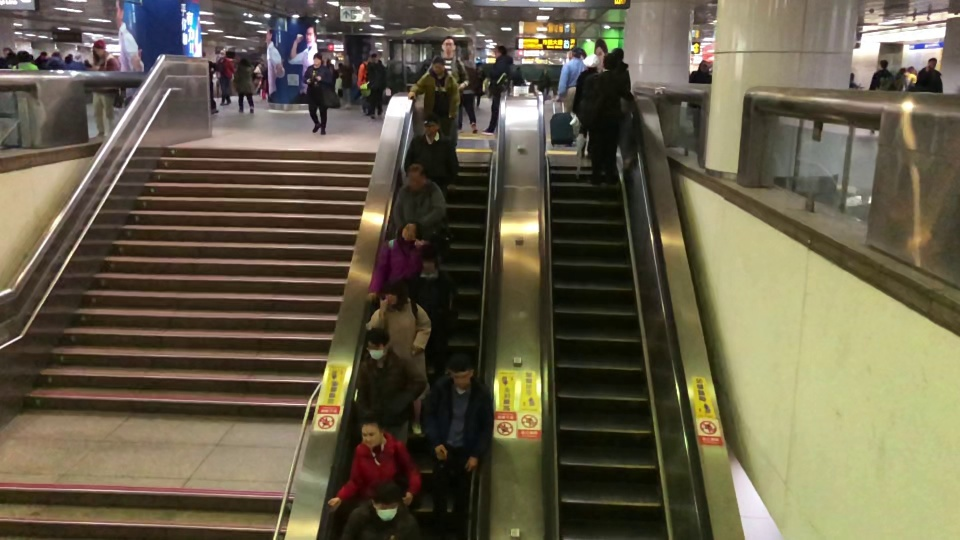person_head: (371, 485, 401, 521), (365, 327, 390, 359), (447, 355, 472, 387), (360, 418, 382, 446), (380, 281, 404, 304), (406, 163, 424, 188), (399, 222, 418, 241), (421, 254, 440, 272), (602, 52, 620, 70), (423, 116, 440, 135), (91, 38, 108, 56), (429, 56, 447, 73), (440, 36, 457, 53), (583, 54, 599, 68), (611, 47, 627, 61), (492, 44, 506, 56), (309, 53, 322, 65), (17, 50, 30, 61), (878, 58, 891, 69), (567, 49, 582, 58), (698, 59, 709, 70), (462, 49, 472, 60), (927, 58, 937, 69), (50, 49, 60, 58), (238, 52, 248, 61), (3, 46, 12, 54), (224, 49, 232, 58), (371, 53, 377, 61), (898, 67, 907, 72), (909, 67, 915, 73), (362, 56, 367, 63), (41, 51, 46, 57)
person_vbox: (416, 354, 492, 534), (324, 418, 424, 512), (352, 328, 422, 458), (363, 283, 438, 390), (392, 163, 456, 259), (409, 256, 458, 377), (578, 53, 621, 187), (406, 55, 462, 155), (399, 117, 457, 199), (366, 221, 417, 304), (341, 486, 416, 539), (89, 38, 117, 138), (478, 45, 508, 137), (555, 49, 582, 143), (576, 54, 599, 159), (304, 53, 331, 137), (455, 48, 479, 134), (431, 37, 467, 93), (687, 58, 708, 136), (235, 52, 257, 115), (612, 47, 636, 99), (369, 53, 386, 119), (915, 58, 946, 92), (864, 59, 898, 89), (218, 48, 233, 106), (357, 56, 370, 116), (14, 50, 37, 71), (894, 67, 909, 90), (48, 49, 65, 69), (34, 51, 49, 68)
